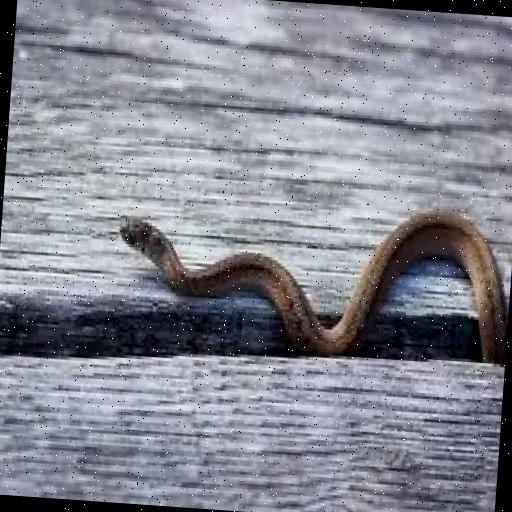snake: (120, 212, 507, 365)
